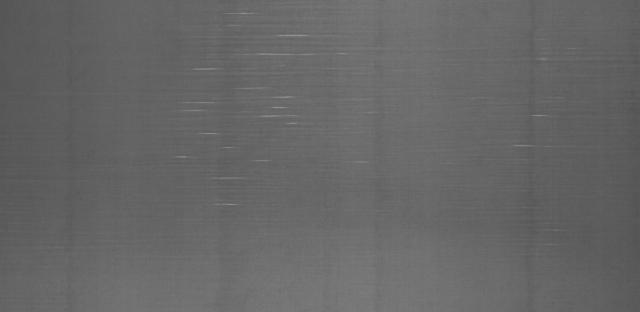waist_folding: (127, 6, 628, 238)
